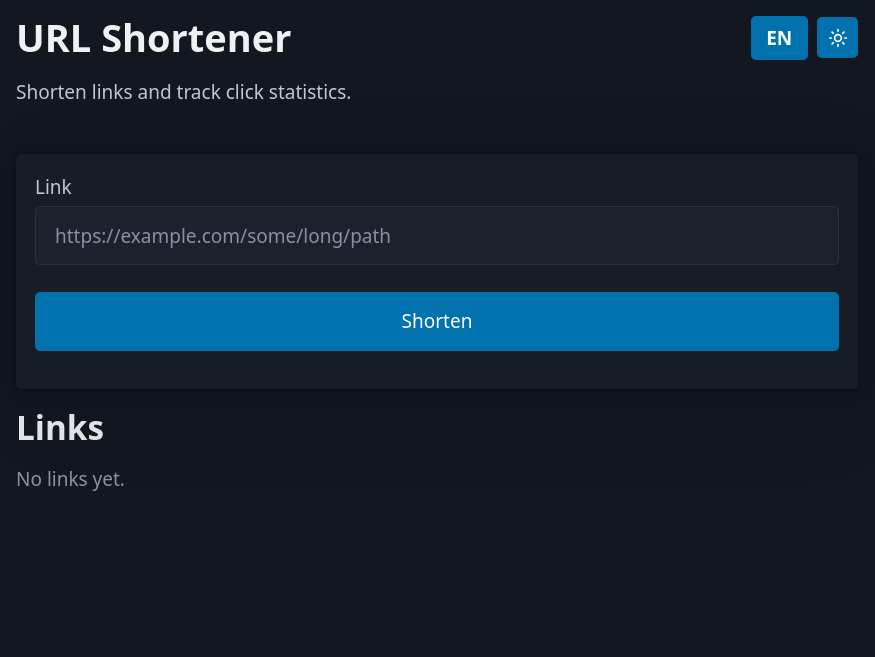
Scenario: App › creates a link and shows the short url
The image size is (875, 657).
Expected: the text "No links yet." is shown, [16,466,125,492]
Type "https://example.com" into the field labelled "Link".
click(437, 236); type("https://example.com")  # box [35,206,839,265]
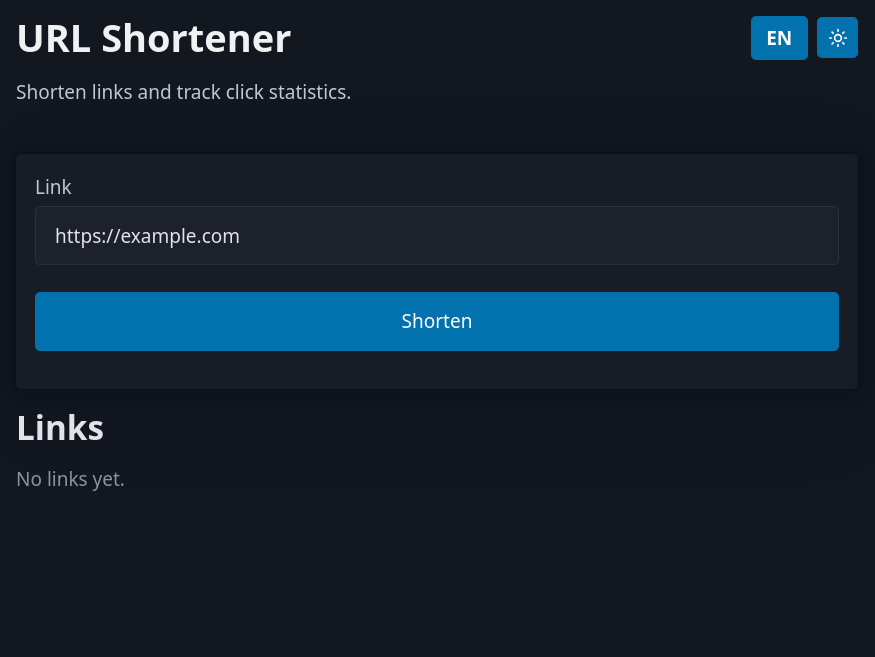
Submit the form labelled "Link", box [35,173,839,370]
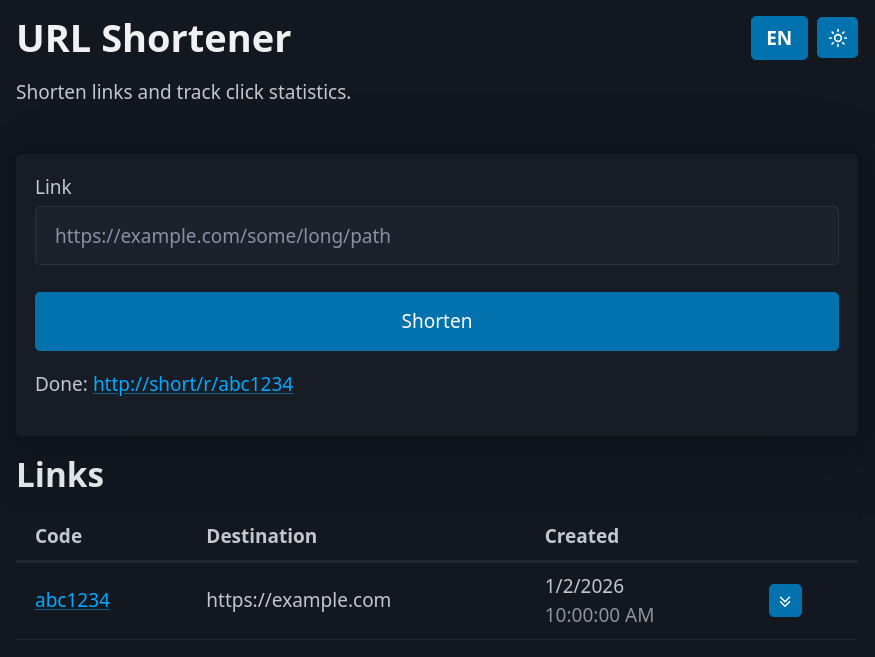
Result: the link "http://short/r/abc1234" is shown at [93,370,293,396]
Result: the field labelled "Link" is empty at [35,206,839,265]
